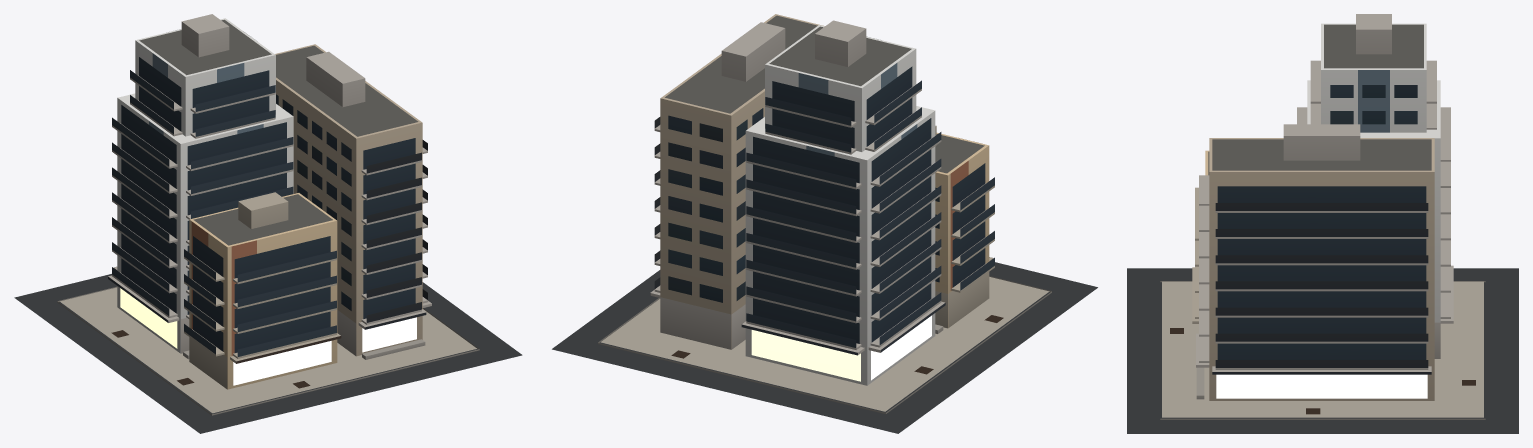
The model's file is modulo_D_lod1.glb.
3 views of the same model, side by side, from view 1: azimuth 30°, elevation 25°; view 2: azimuth 150°, elevation 25°; view 3: azimuth 270°, elevation 25° (orthographic). The views are drawn at different scales.
Parts seen in each view (by area): view 1: modulo_D_lod1; view 2: modulo_D_lod1; view 3: modulo_D_lod1.
Part boxes in pixels (bbox=[...]): modulo_D_lod1: bbox=[14, 14, 522, 433]; modulo_D_lod1: bbox=[552, 14, 1097, 433]; modulo_D_lod1: bbox=[1127, 14, 1518, 433].
Size of the model in its own units: 40 by 34.86 by 40.
